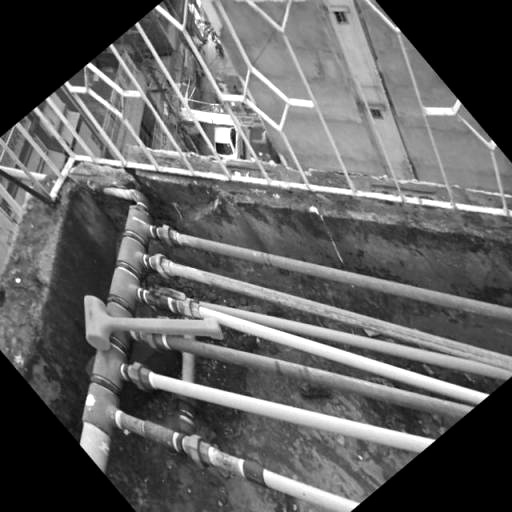mallet: (64, 240, 229, 406)
